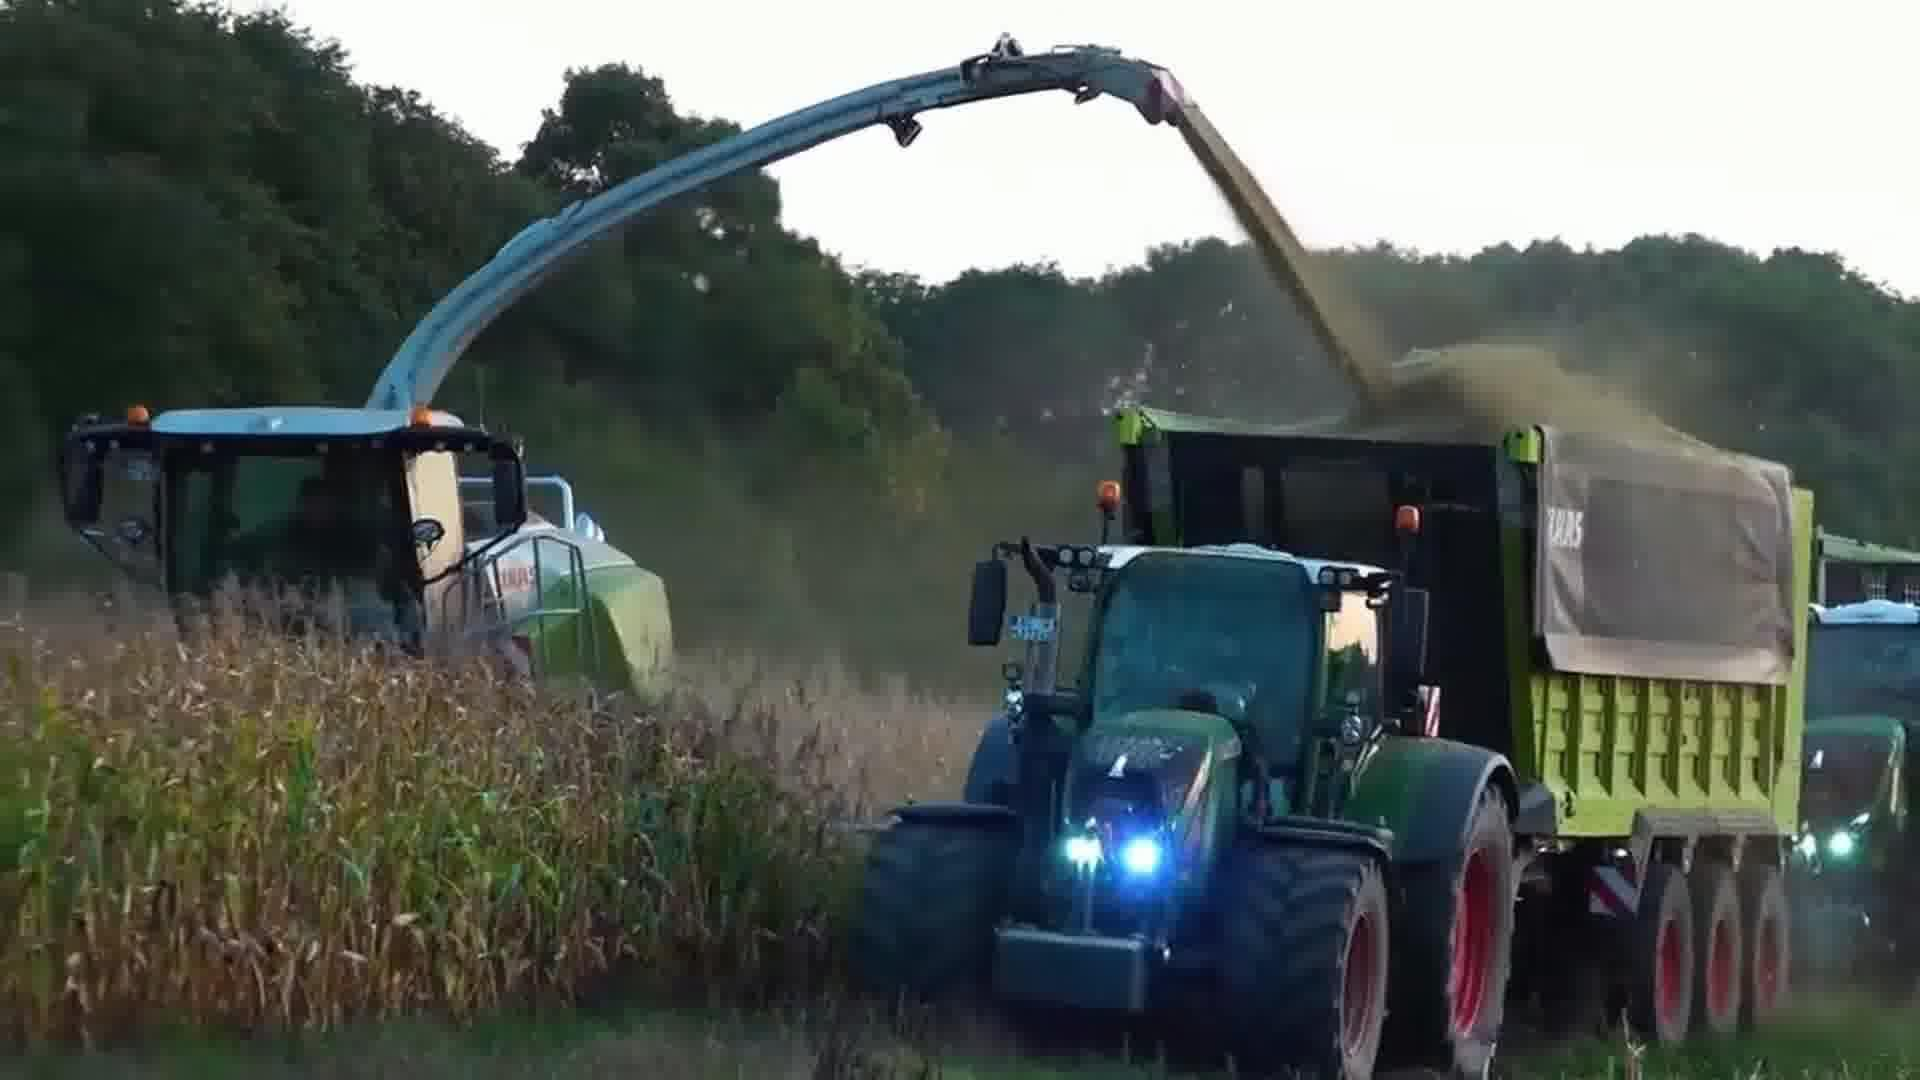combine harvester: (51, 20, 1204, 764)
tractor: (835, 469, 1523, 1080), (1804, 585, 1920, 1026)
trailer: (1108, 372, 1801, 1046)
